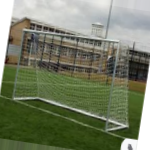goals: (12, 27, 130, 133)
